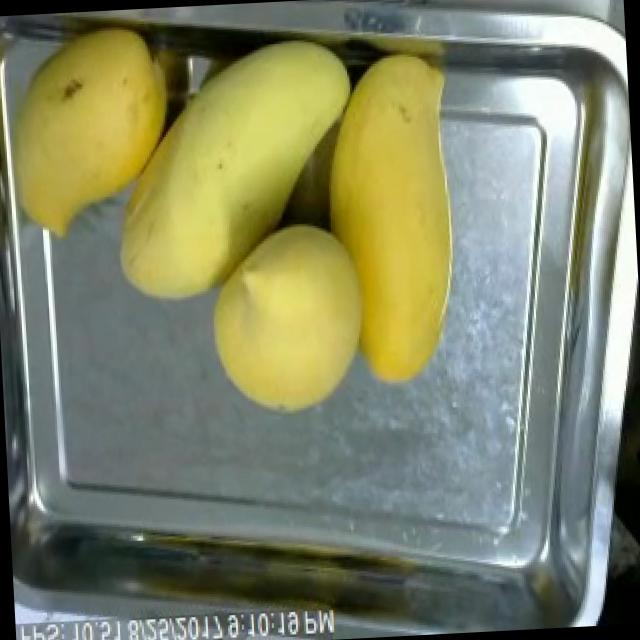fruit: (88, 21, 386, 322), (295, 29, 492, 405), (188, 202, 394, 438), (0, 9, 191, 247)
